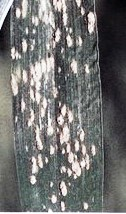Powdery Mildew: (11, 32, 103, 191)
